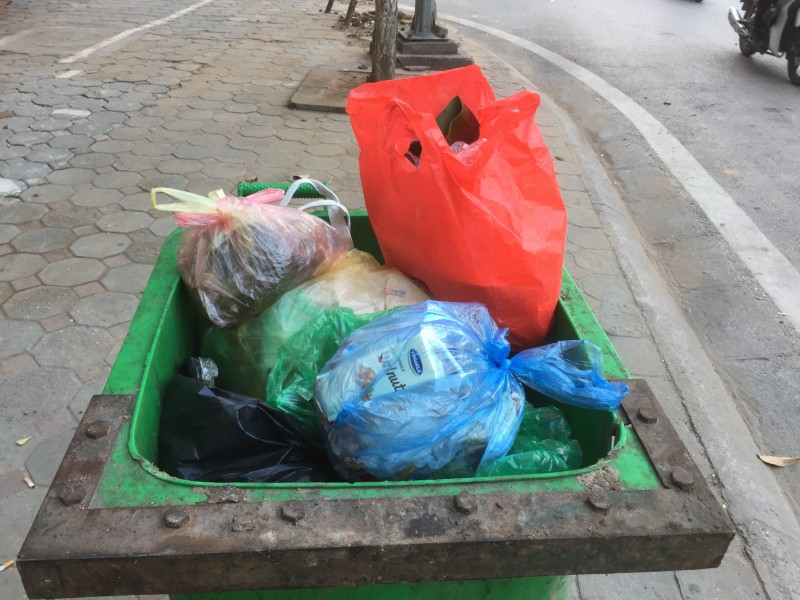plastic bag: (141, 67, 627, 476), (348, 66, 567, 338), (312, 300, 595, 476), (181, 187, 329, 320)
